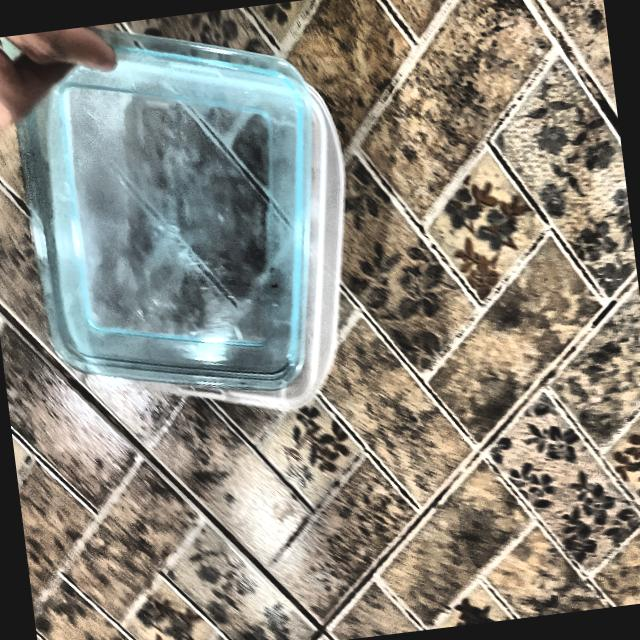plastic container: (0, 17, 422, 448)
